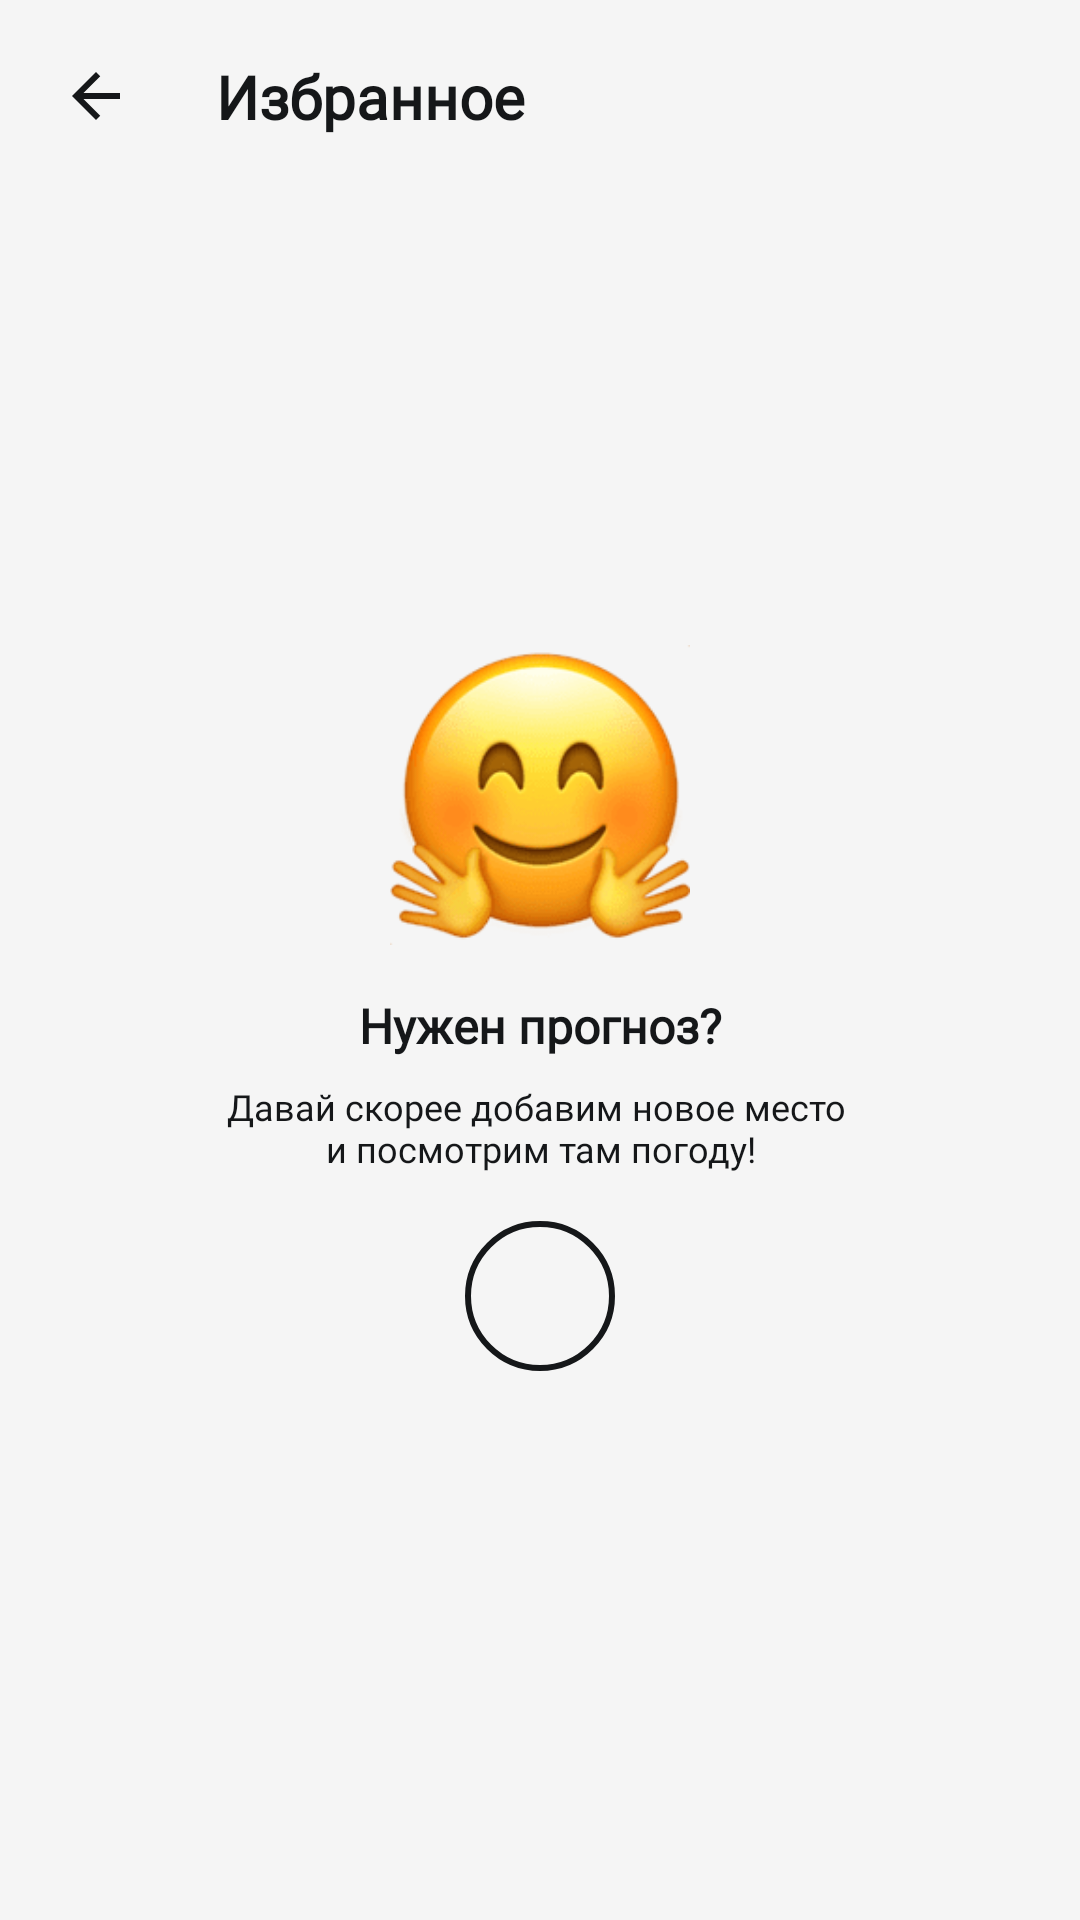

Icon bounding boxes for this 1080 × 1920 phone screenshot, format box(x1, y1, x2, y2):
arrow back: box(72, 72, 120, 120)
hello: box(390, 645, 690, 945)
